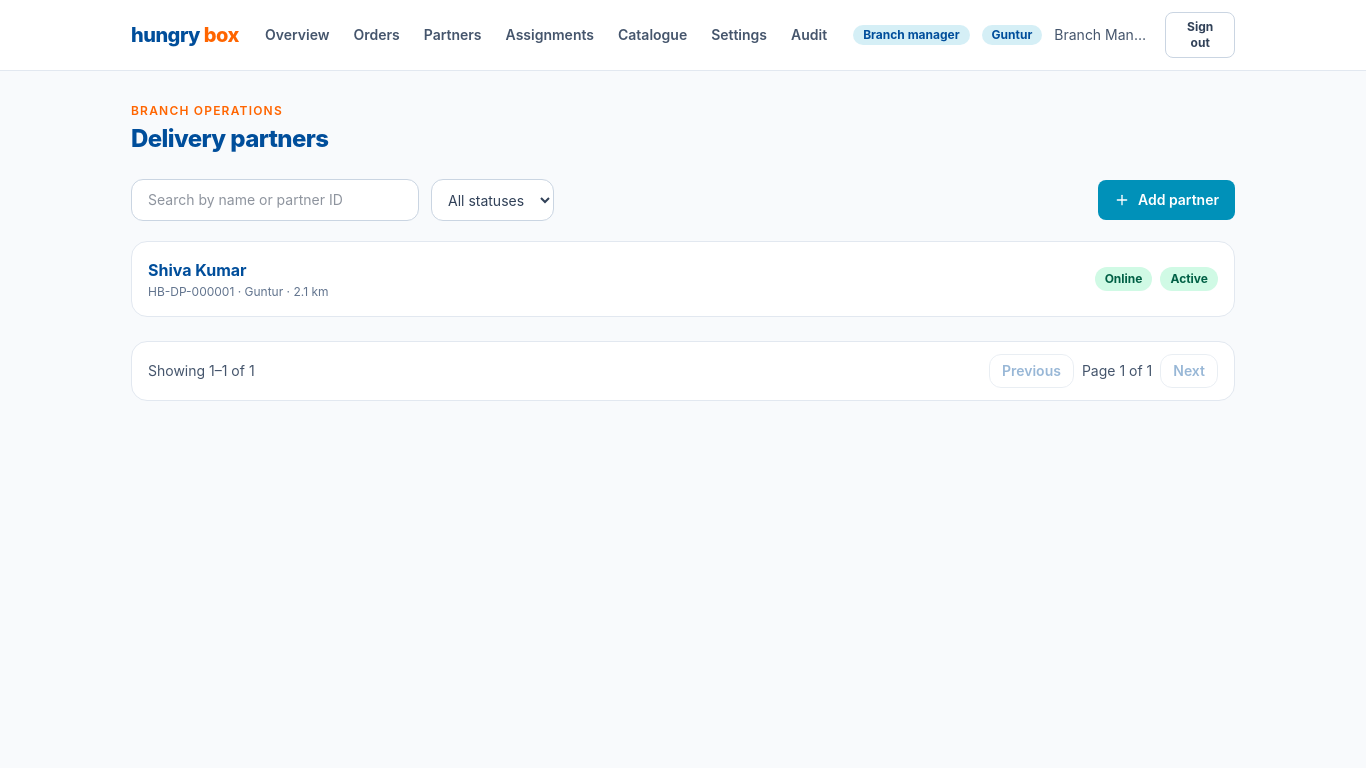
it: manager partner list › creates a partner and shows the one-time password
Expected: the text "Shiva Kumar" is shown, x1=148 y1=260 x2=247 y2=280
Click the button "Add partner" at (1166, 200), box x1=1098 y1=180 x2=1235 y2=220
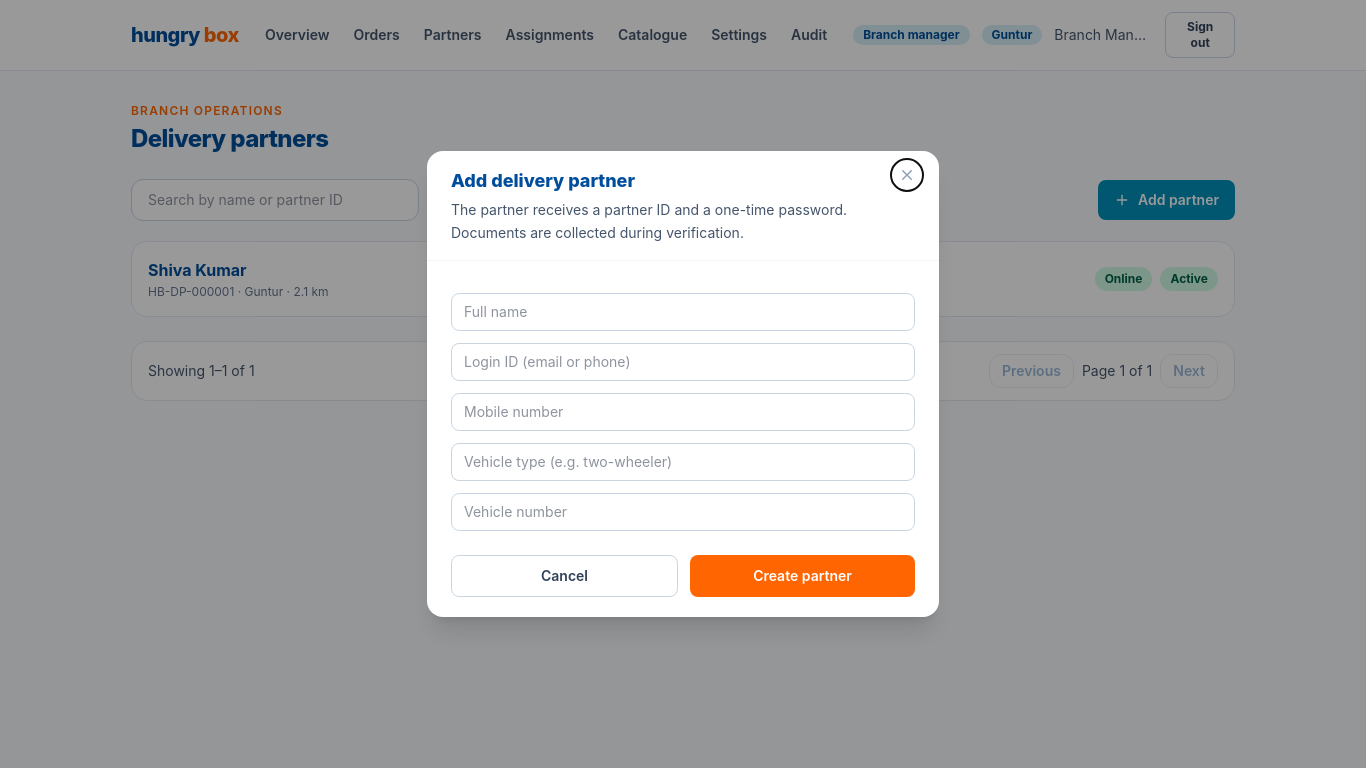
Type "Sai Kumar" into the field labelled "Full name" at (683, 312), box x1=451 y1=293 x2=915 y2=331
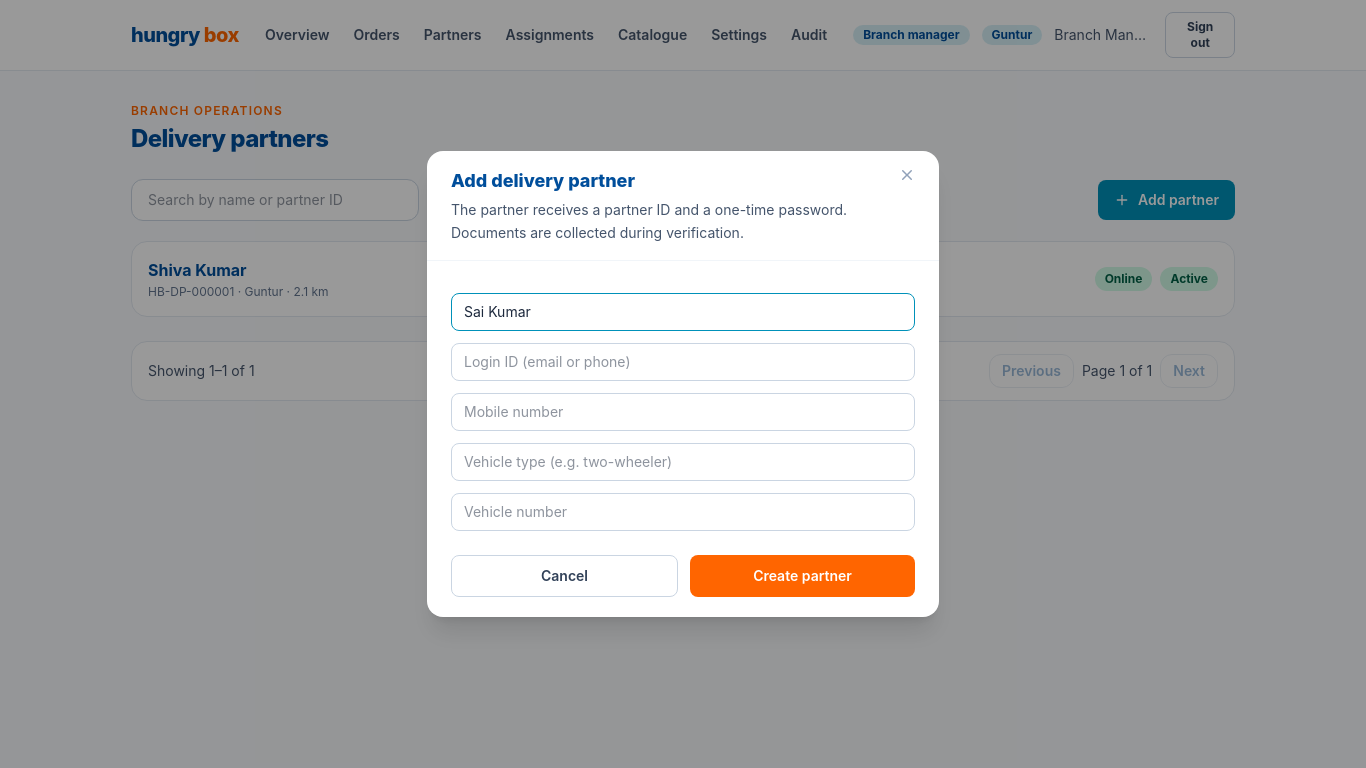
Type "sai@example.com" into the field labelled "Login ID (email or phone)" at (683, 362), box x1=451 y1=343 x2=915 y2=381
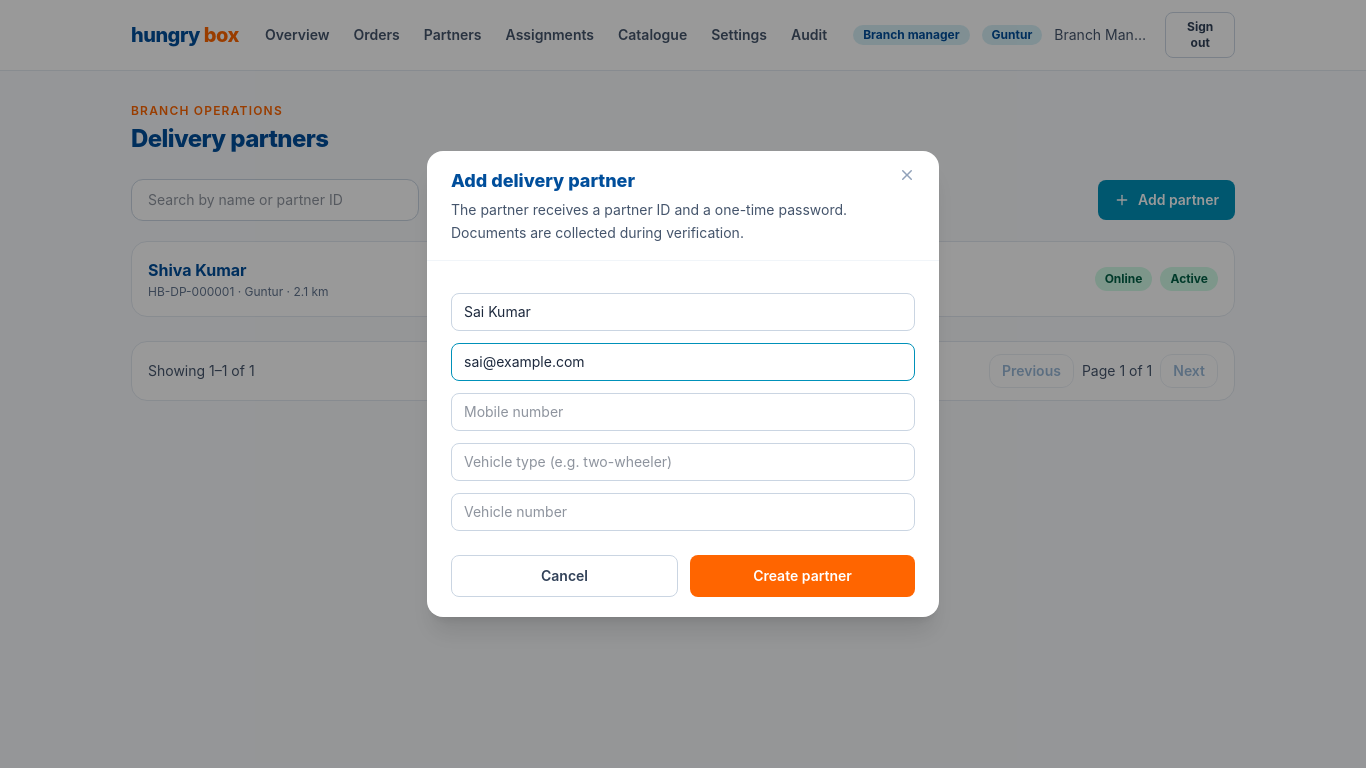
Click the button "Create partner" at (802, 576), box x1=690 y1=555 x2=915 y2=597
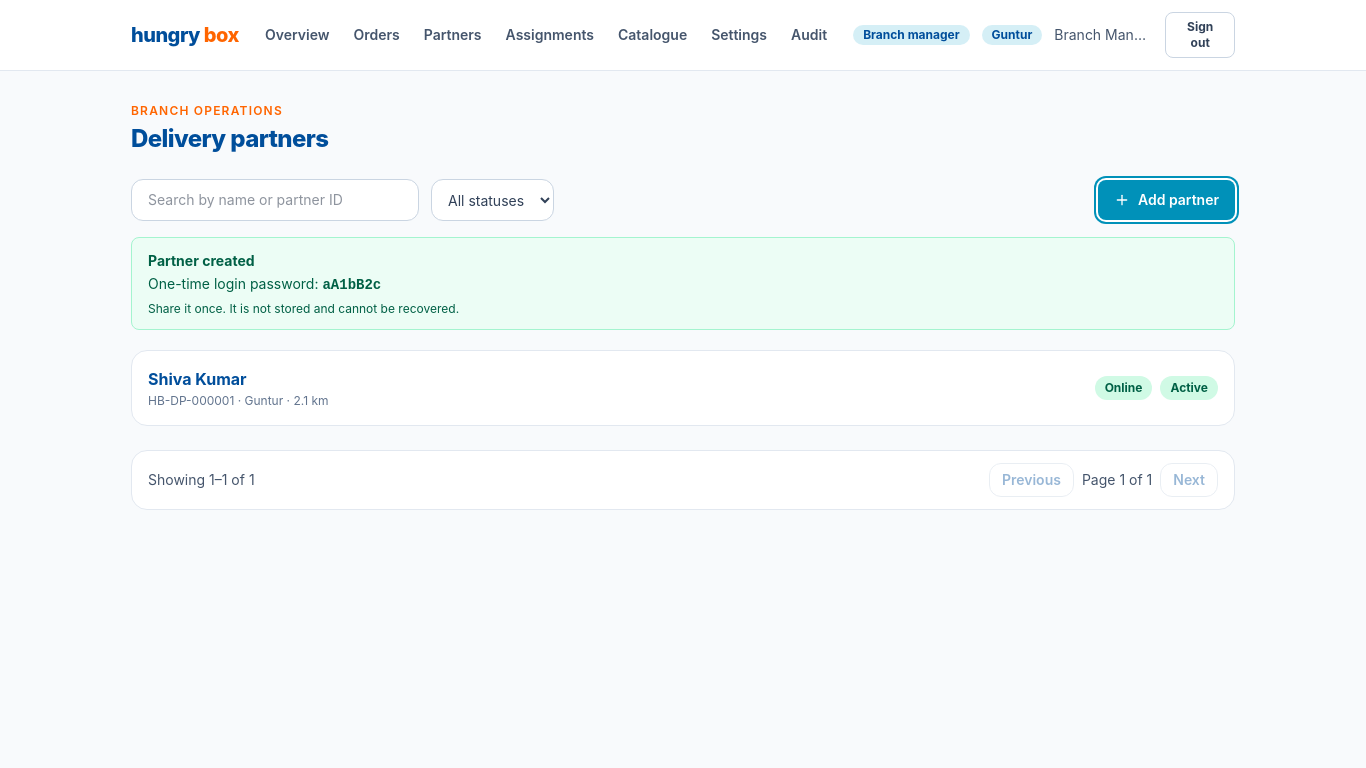
Expected: the text "aA1bB2c" is shown, x1=322 y1=277 x2=381 y2=293
Expected: the text "Share it once. It is not stored and cannot be recovered." is shown, x1=148 y1=300 x2=459 y2=316
